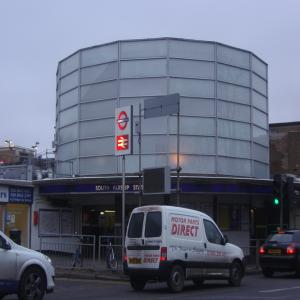Vehicle-registration-plate: (269, 249, 283, 256), (129, 261, 142, 266)
